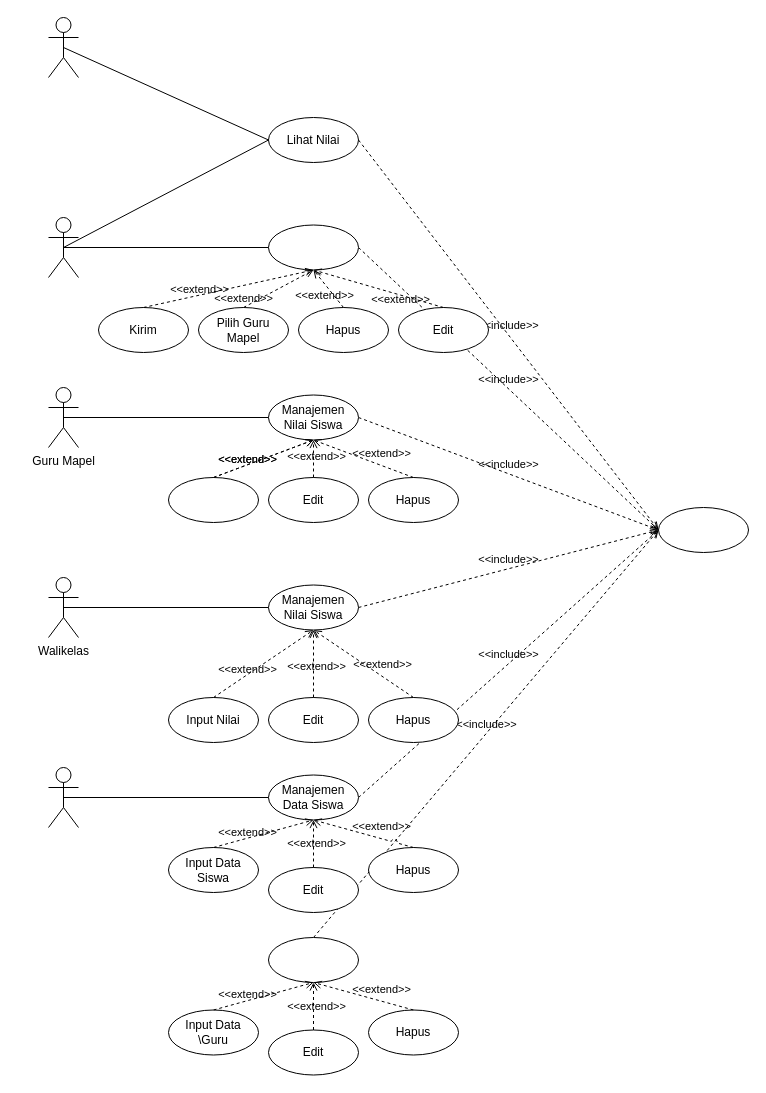
This 766x1093 diagram has some shape labels left out. The shapes that lost their labels are listed below. From the top down, each one's centre as x and y in pixels, then its label:
point (63, 47): Orang Tua Siswa
point (63, 247): Siswa
point (313, 247): Testimoni
point (213, 499): Kirim Nilai
point (703, 529): Login
point (63, 797): Operator
point (313, 959): Manajemen Data Guru
